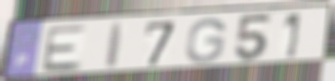1: (281, 12, 303, 60)
5: (232, 12, 274, 64)
7: (143, 21, 178, 68)
E: (39, 24, 88, 74)
G: (184, 17, 228, 64)
I: (104, 21, 128, 70)
